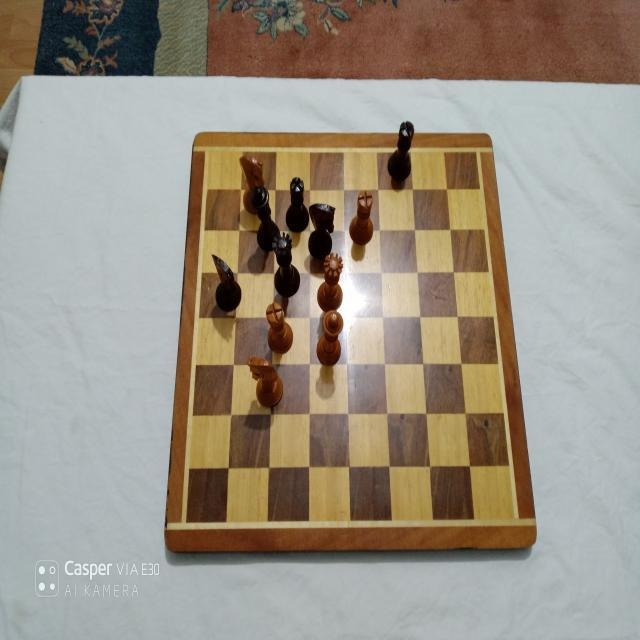black-king: (249, 185, 280, 251)
black-knight: (211, 253, 241, 311), (307, 202, 336, 258)
black-queen: (272, 231, 300, 297)
black-rook: (386, 120, 414, 180), (285, 176, 310, 232)
white-king: (316, 309, 343, 367)
white-knight: (246, 354, 282, 406), (238, 154, 267, 214)
white-queen: (316, 251, 343, 312)
white-rook: (266, 301, 294, 354), (348, 189, 374, 244)
